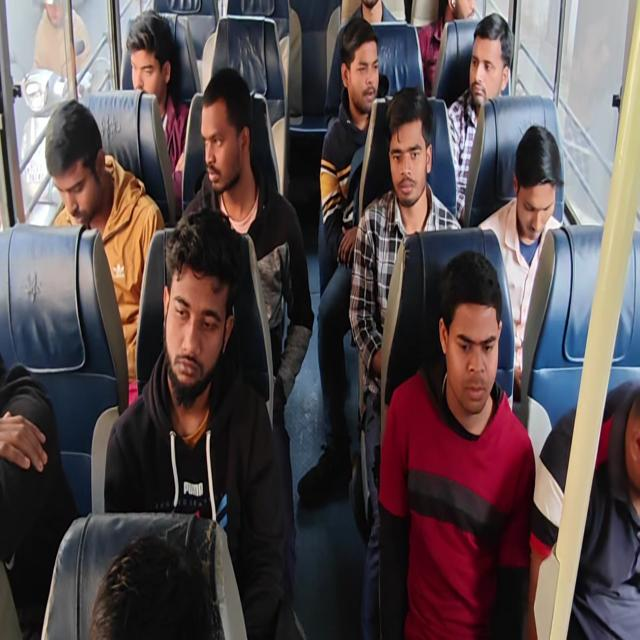person: (2, 1, 638, 638), (101, 207, 302, 638), (180, 66, 314, 590), (348, 85, 462, 637), (377, 249, 536, 638), (297, 17, 392, 504), (44, 98, 166, 406), (526, 379, 639, 639), (477, 124, 564, 400), (0, 354, 78, 638), (88, 533, 224, 639), (446, 12, 514, 223), (124, 10, 190, 212), (324, 0, 406, 126), (32, 0, 92, 93), (417, 0, 475, 96), (339, 0, 401, 26)
